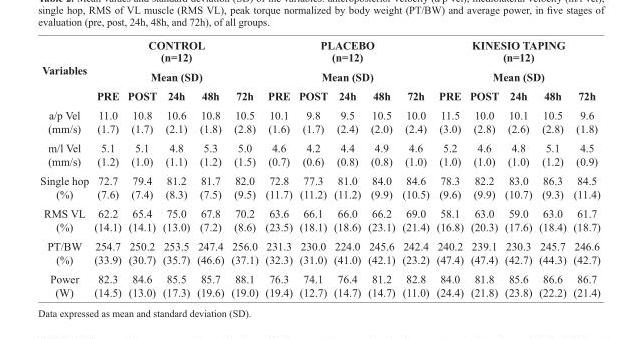table: (39, 38, 599, 298)
table column: (39, 38, 90, 298), (123, 38, 159, 298), (294, 38, 330, 298), (226, 38, 261, 298), (363, 38, 398, 298), (466, 38, 501, 298), (534, 38, 569, 298), (192, 38, 226, 298), (398, 38, 432, 298), (432, 38, 466, 298), (90, 38, 123, 298), (159, 38, 192, 298), (261, 38, 294, 298), (330, 38, 363, 298), (501, 38, 534, 298), (569, 38, 599, 298)
table column header: (39, 38, 599, 105)
table row: (39, 137, 599, 170), (39, 170, 599, 203), (39, 203, 599, 236), (39, 105, 599, 137), (39, 236, 599, 268), (39, 268, 599, 298), (39, 38, 599, 66), (39, 85, 599, 105), (39, 66, 599, 85)
table spanning cell: (90, 38, 261, 85), (261, 38, 432, 85), (432, 38, 599, 85), (39, 38, 90, 105)
